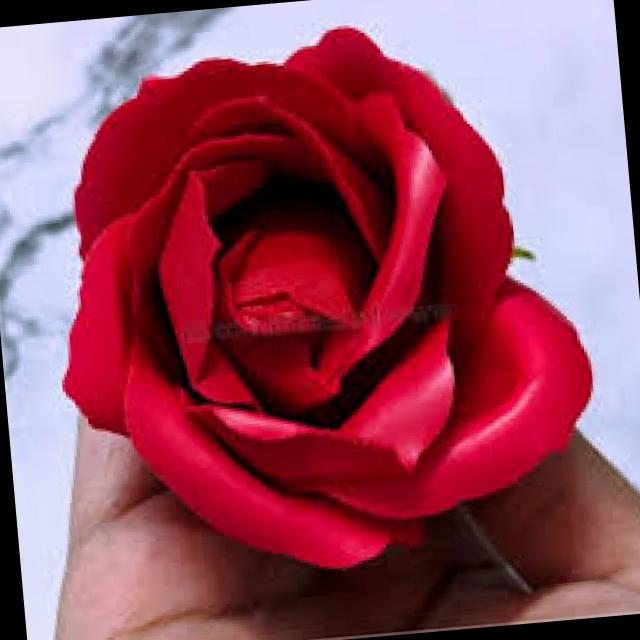rose: (10, 0, 609, 585)
